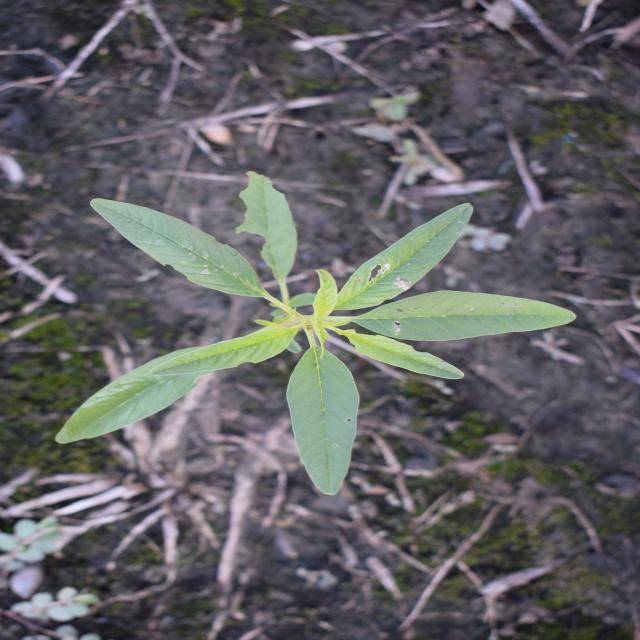Waterhemp: (53, 168, 580, 499)
